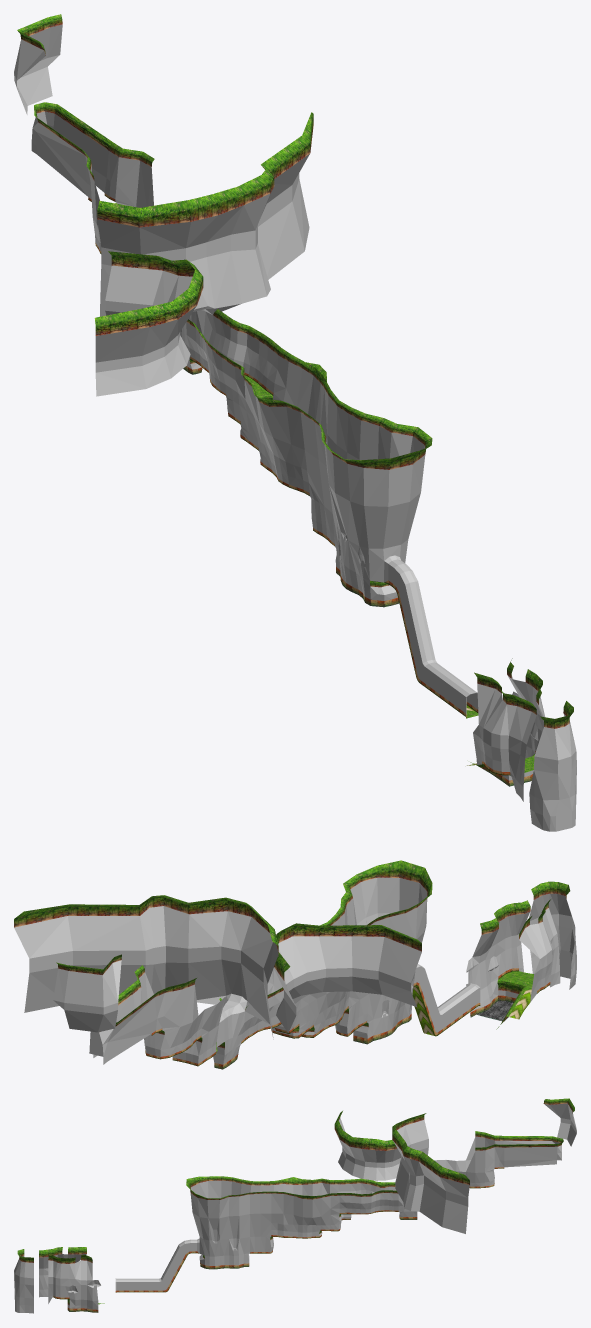
The model's file is Seagate4.obj.
3 renders of one model, top to bottom at view 1: azimuth 30°, elevation 25°; view 2: azimuth 150°, elevation 25°; view 3: azimuth 270°, elevation 25°, orthographic. The views are drawn at different scales.
Parts seen in each view (by area): view 1: obj3; view 2: obj3, obj1, obj2; view 3: obj3.
Part boxes in pixels (left/top/right/bottom): obj3: left=14, top=14, right=576, bottom=831; obj3: left=14, top=860, right=576, bottom=1069; obj1: left=311, top=986, right=434, bottom=1035; obj2: left=477, top=1001, right=513, bottom=1020; obj3: left=14, top=1098, right=576, bottom=1313.
Size of the model in its own units: 2127 by 2401 by 5867.
